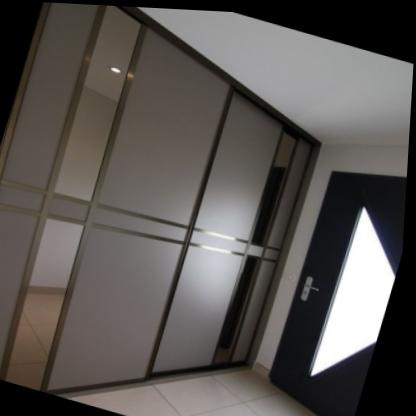Closet: (0, 2, 324, 397)
